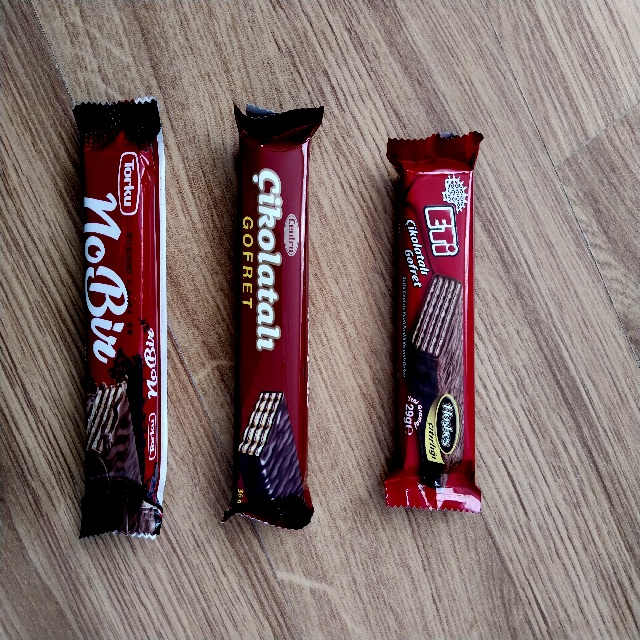centro_gofret: (225, 105, 323, 528)
eti_hosbes_gofret: (384, 131, 480, 510)
torku_nobir_gofret: (80, 100, 167, 537)
